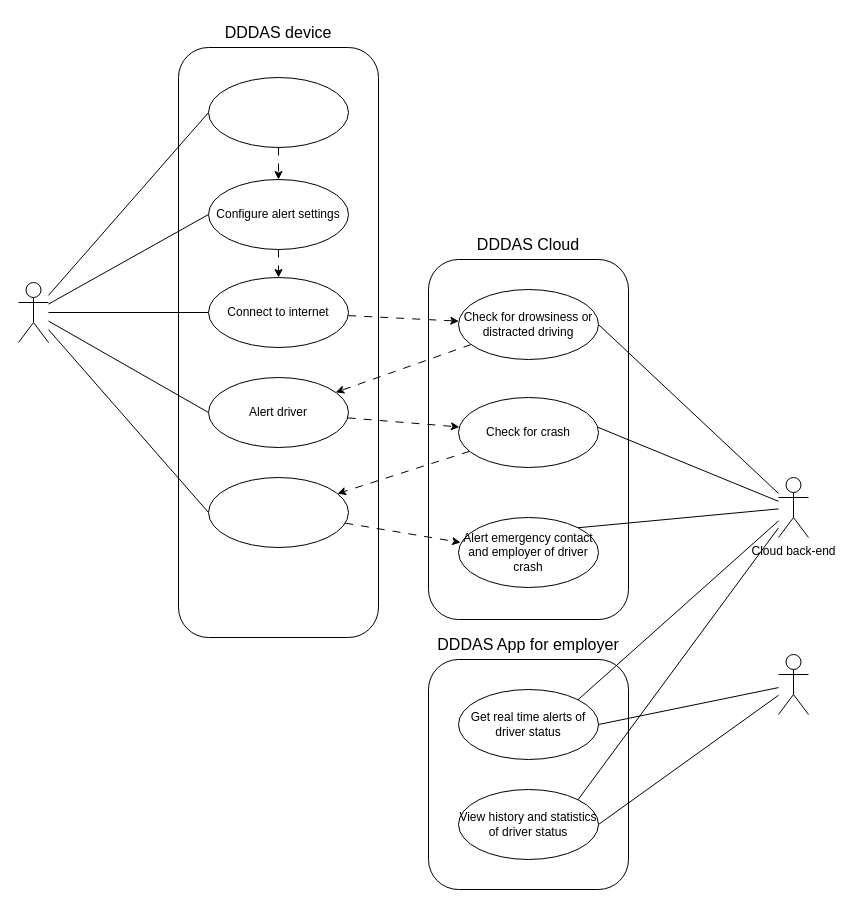
Some shapes in this 853 by 907 pixel diagram are drawn without their labels. The centre of each missing label's shape, as x and y in pixels:
Driver: the point at 33,312
Employer: the point at 793,684
Set up the DDDAS device in vehicle: the point at 278,112
User verification of crash: the point at 278,512
